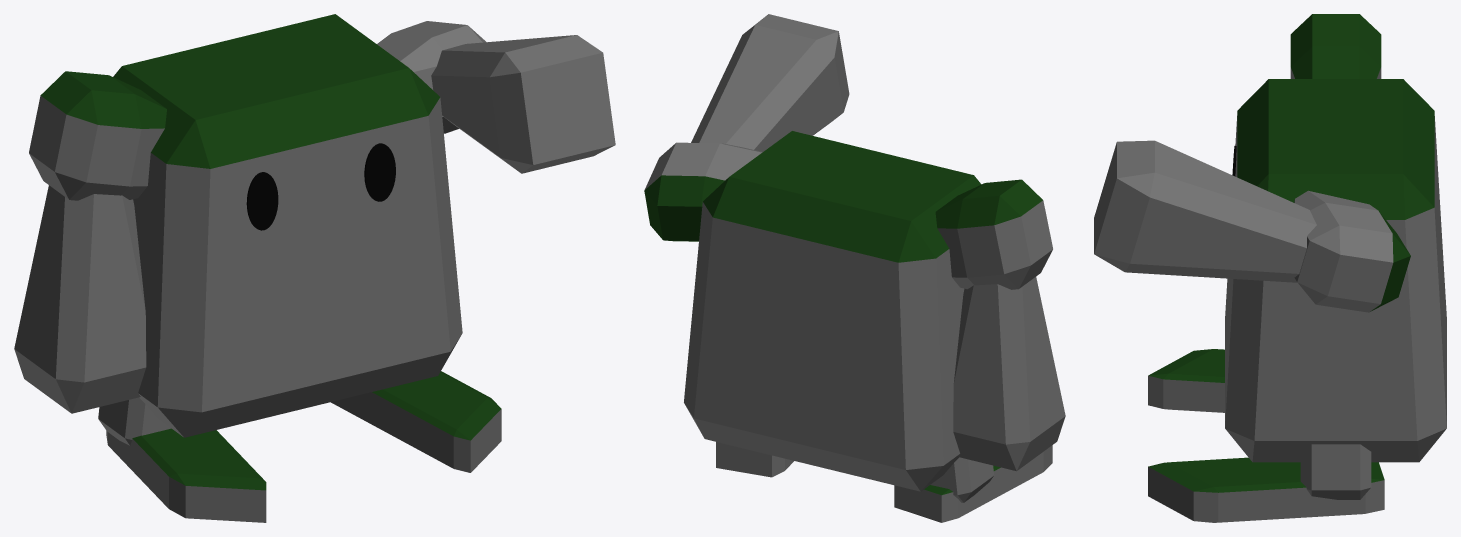
The model's file is golemArm2.fbx.
The picture shows the model from 3 angles, left to right: view 1: azimuth 30°, elevation 25°; view 2: azimuth 150°, elevation 25°; view 3: azimuth 270°, elevation 25°; orthographic projection. The views are drawn at different scales.
Parts seen in each view (by area): view 1: Cube.048; view 2: Cube.048; view 3: Cube.048.
Boxes of the visible parts, x1=… form: Cube.048: x1=14, y1=14, x2=615, y2=522; Cube.048: x1=644, y1=14, x2=1065, y2=522; Cube.048: x1=1094, y1=14, x2=1446, y2=522.
Bounding box in the file's own units: 436 × 373 × 317.
